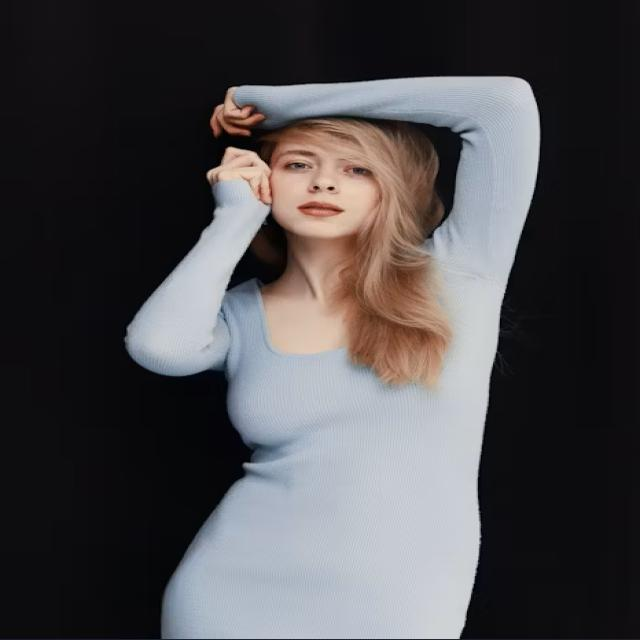Edited images: (106, 58, 536, 640)
